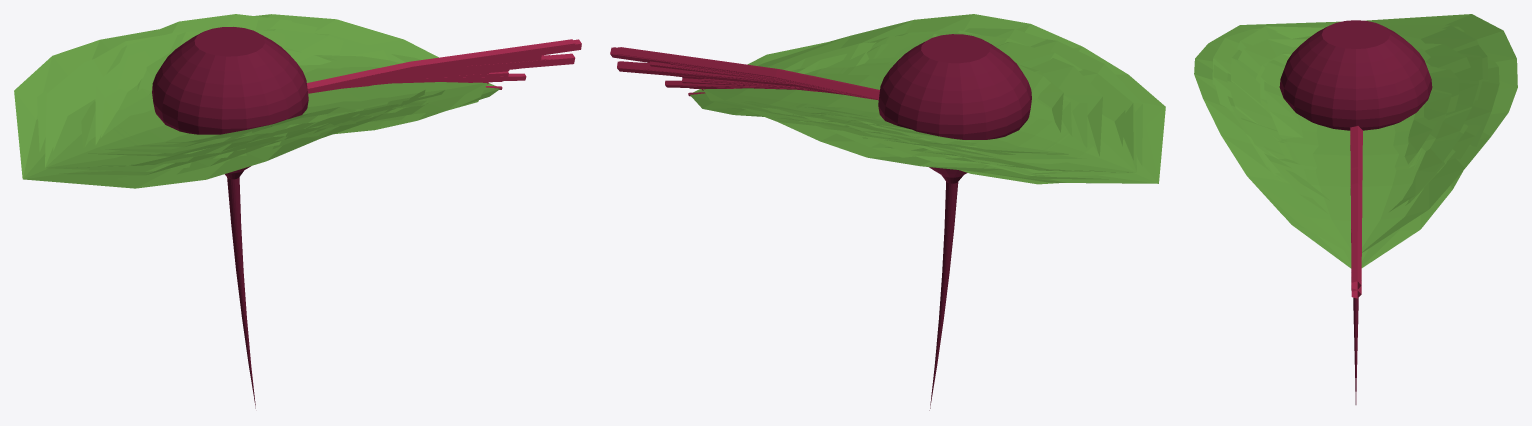
Rendered from beetroot_harvest_v10.articulated.glb.
The picture shows the model from 3 angles, left to right: view 1: azimuth 30°, elevation 25°; view 2: azimuth 150°, elevation 25°; view 3: azimuth 270°, elevation 25°; orthographic projection. The views are drawn at different scales.
Visible parts, largest first — view 1: leaf06_link2, root, leaf12_link2, leaf11_link2, leaf07_link2, leaf03_link2, leaf05_link2, leaf04_link2, leaf07_link0, leaf08_link2, leaf02_link2, leaf11_link0 (+6 smaller); view 2: root, leaf06_link2, leaf03_link2, leaf12_link2, leaf11_link2, leaf02_link2, leaf07_link2, leaf12_link0, leaf08_link2, leaf05_link2, leaf09_link2, leaf01_link2 (+6 smaller); view 3: leaf06_link2, root, leaf11_link2, leaf03_link2, leaf05_link2, leaf12_link2, leaf02_link2, leaf04_link2, leaf07_link2, leaf01_link2, leaf09_link2, leaf12_link0 (+4 smaller).
Part boxes in pixels (box(x1,y1,x2,y2)): leaf06_link2: box(14, 14, 488, 188); root: box(152, 27, 308, 408); leaf12_link2: box(45, 33, 428, 171); leaf11_link2: box(59, 14, 502, 175); leaf07_link2: box(95, 50, 430, 154); leaf03_link2: box(81, 30, 425, 156); leaf05_link2: box(101, 49, 357, 144); leaf04_link2: box(53, 29, 403, 170); leaf07_link0: box(307, 39, 581, 93); leaf08_link2: box(37, 19, 417, 174); leaf02_link2: box(77, 32, 444, 167); leaf11_link0: box(350, 53, 575, 87); root: box(878, 34, 1031, 410); leaf06_link2: box(701, 14, 1165, 183); leaf03_link2: box(796, 52, 1102, 163); leaf12_link2: box(743, 30, 1136, 172); leaf11_link2: box(688, 39, 1142, 184); leaf02_link2: box(783, 42, 1133, 177); leaf07_link2: box(741, 34, 1087, 154); leaf12_link0: box(616, 47, 878, 99); leaf08_link2: box(727, 28, 1108, 179); leaf05_link2: box(805, 99, 1063, 153); leaf09_link2: box(793, 42, 1082, 175); leaf01_link2: box(811, 64, 1072, 142); leaf06_link2: box(1194, 14, 1517, 253); root: box(1279, 20, 1432, 404); leaf11_link2: box(1212, 28, 1499, 268); leaf03_link2: box(1238, 39, 1478, 200); leaf05_link2: box(1264, 48, 1437, 164); leaf12_link2: box(1227, 25, 1478, 211); leaf02_link2: box(1237, 26, 1482, 213); leaf04_link2: box(1227, 28, 1467, 172); leaf07_link2: box(1241, 43, 1470, 205); leaf01_link2: box(1260, 53, 1451, 151); leaf09_link2: box(1231, 50, 1476, 141); leaf12_link0: box(1350, 135, 1362, 284).
Bounding box in the file's own units: 0.2565 × 0.1657 × 0.1333.
Materials: 1 (1 with a texture image).
